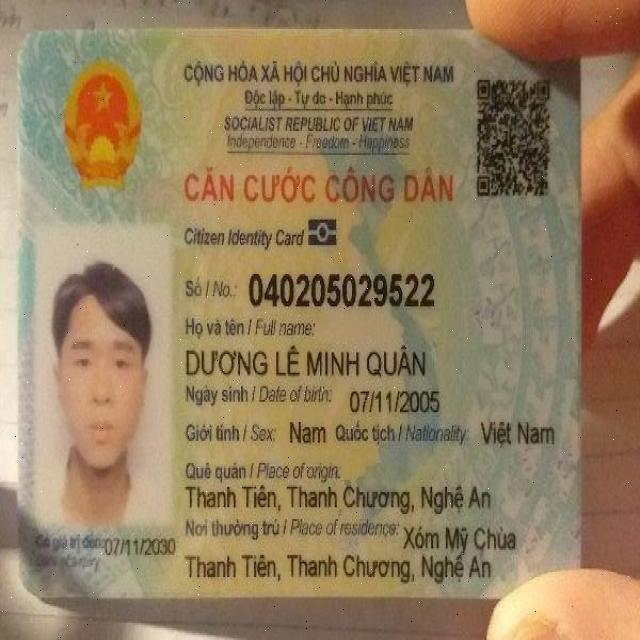current_place: (181, 550, 495, 589), (402, 518, 522, 556)
dob: (348, 381, 442, 417)
expire_date: (100, 534, 177, 557)
gender: (286, 412, 329, 451)
id: (245, 264, 440, 313)
name: (184, 345, 427, 380)
nationality: (477, 413, 562, 450)
origin_place: (187, 479, 494, 515)
